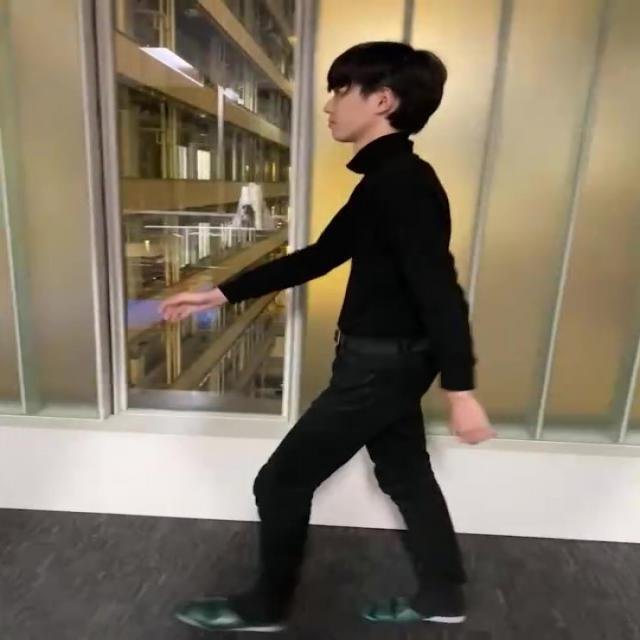direk: (153, 41, 503, 640)
